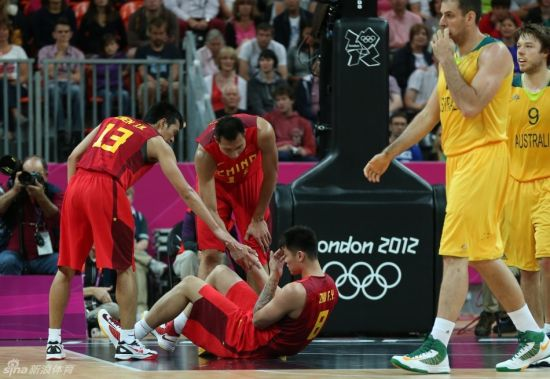10+: (6, 1, 550, 376)
down: (90, 217, 346, 362)
